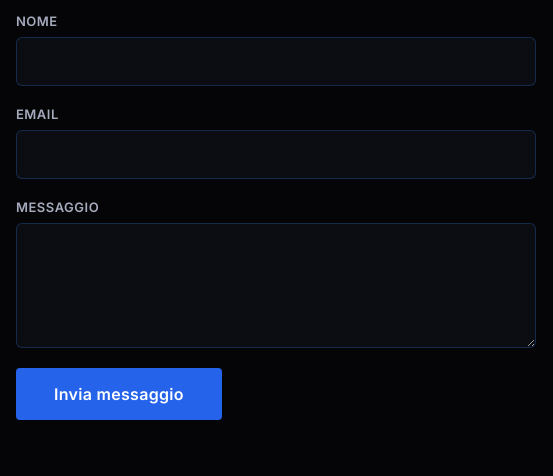
it: ContactForm › mostra il messaggio di successo e svuota il form dopo un invio riuscito
Type "Mario" into the field labelled "Nome" at (276, 62), box [16,37,536,86]
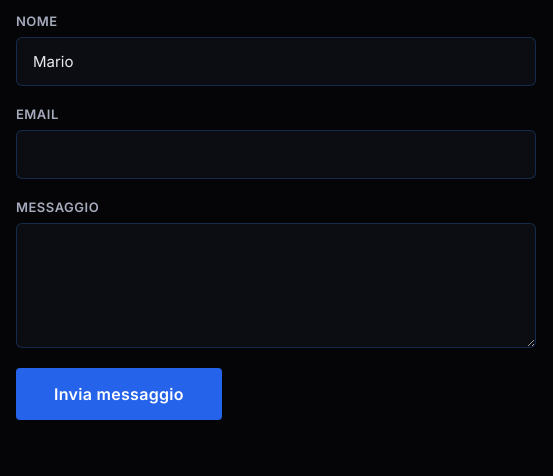
Type "mario@example.com" into the field labelled "Email" at (276, 154), box [16,130,536,179]
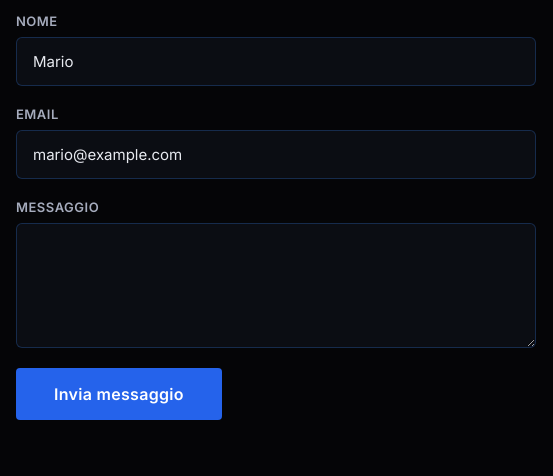
Type "Ciao!" into the text box labelled "Messaggio" at (276, 286), box [16,223,536,348]
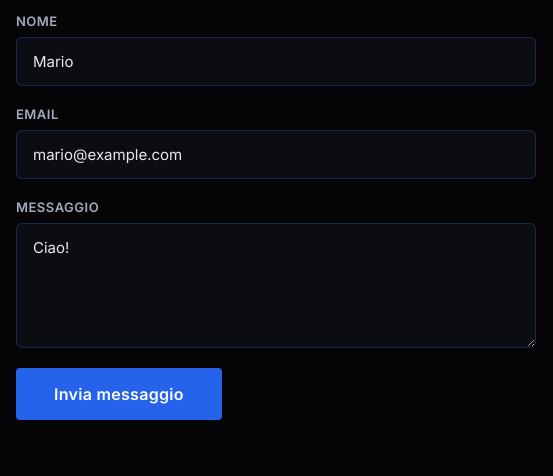
Click the button "Invia messaggio" at (119, 394), box [16,368,222,420]
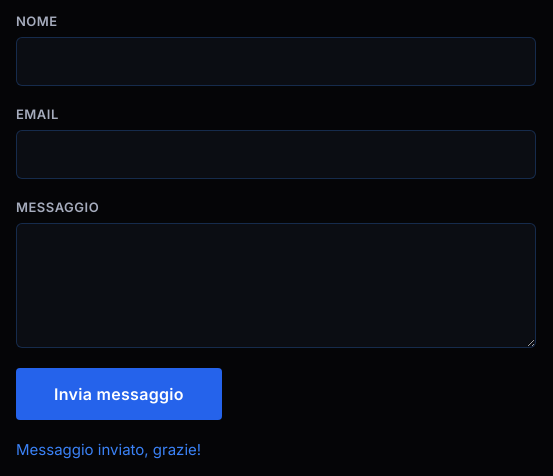
Check: the text "Messaggio inviato, grazie!" is shown, box [16,440,201,459]
Check: the field labelled "Nome" is empty, box [16,37,536,86]
Check: the field labelled "Email" is empty, box [16,130,536,179]
